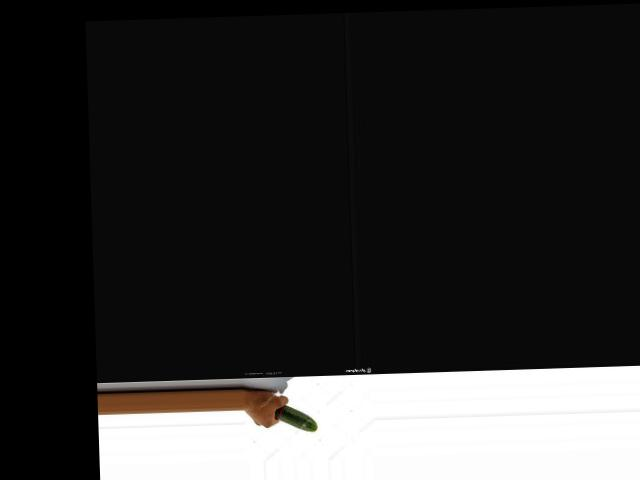cucumber: (274, 404, 317, 432)
